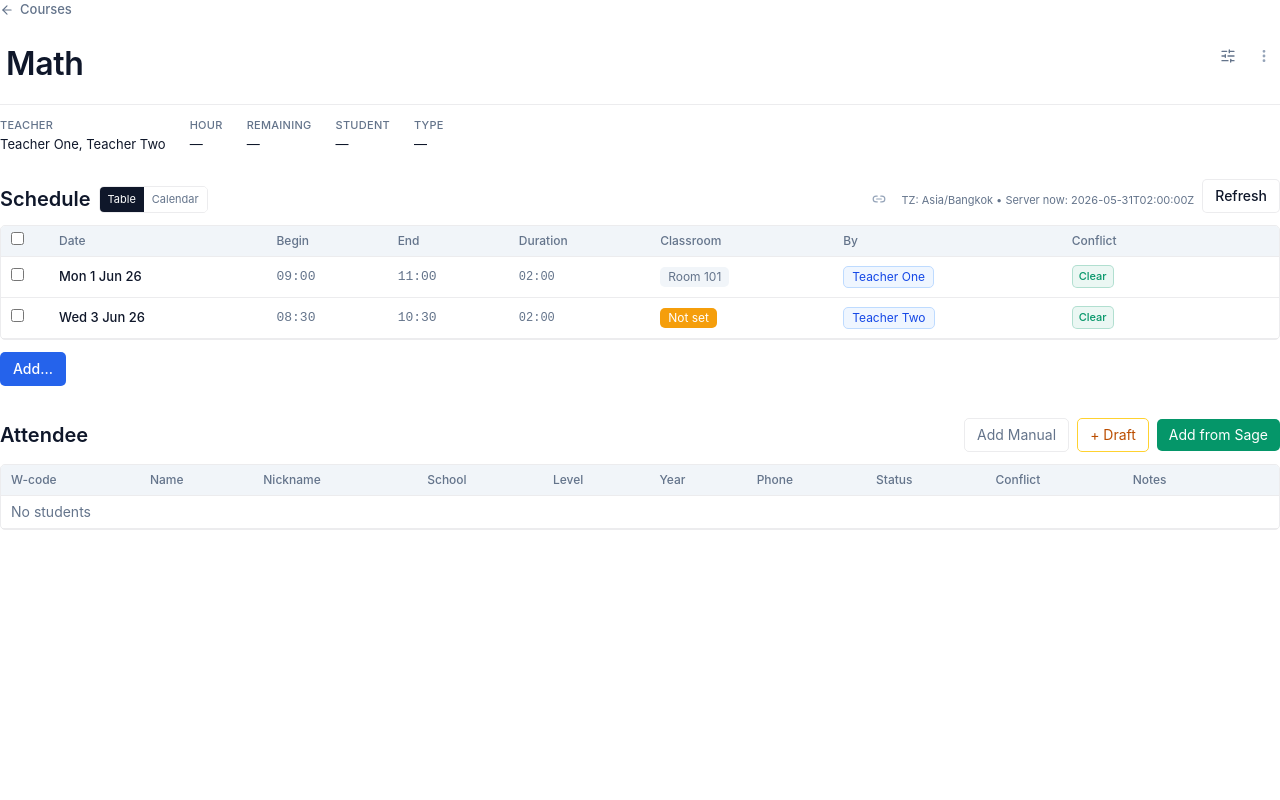
Test: CourseDetail session editing › opens a prefilled editor from the date cell and keeps the table calm
The width and height of the screenshot is (1280, 800).
Click the button with aria-label "Edit session Mon 1 Jun 26" at (100, 276), box [59,264,142,288]
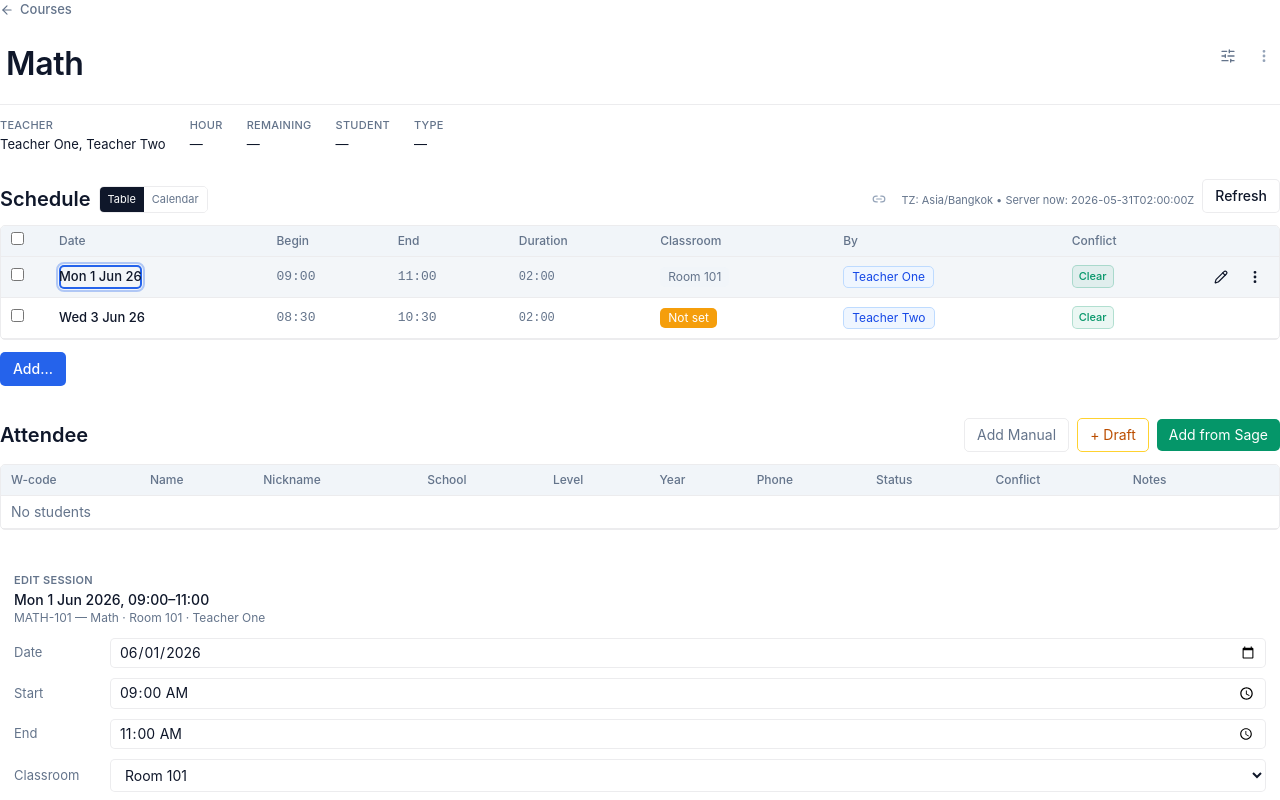
Now the date field labelled "Date" holds "2026-06-01", box [110,638,1266,668]
Now the time field labelled "Start" holds "09:00", box [110,678,1266,709]
Now the time field labelled "End" holds "11:00", box [110,719,1266,749]
